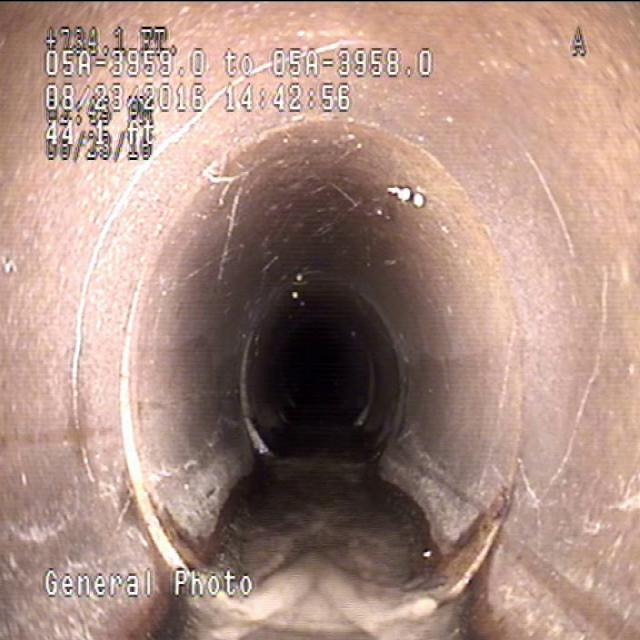Crack: (528, 258, 620, 513)
